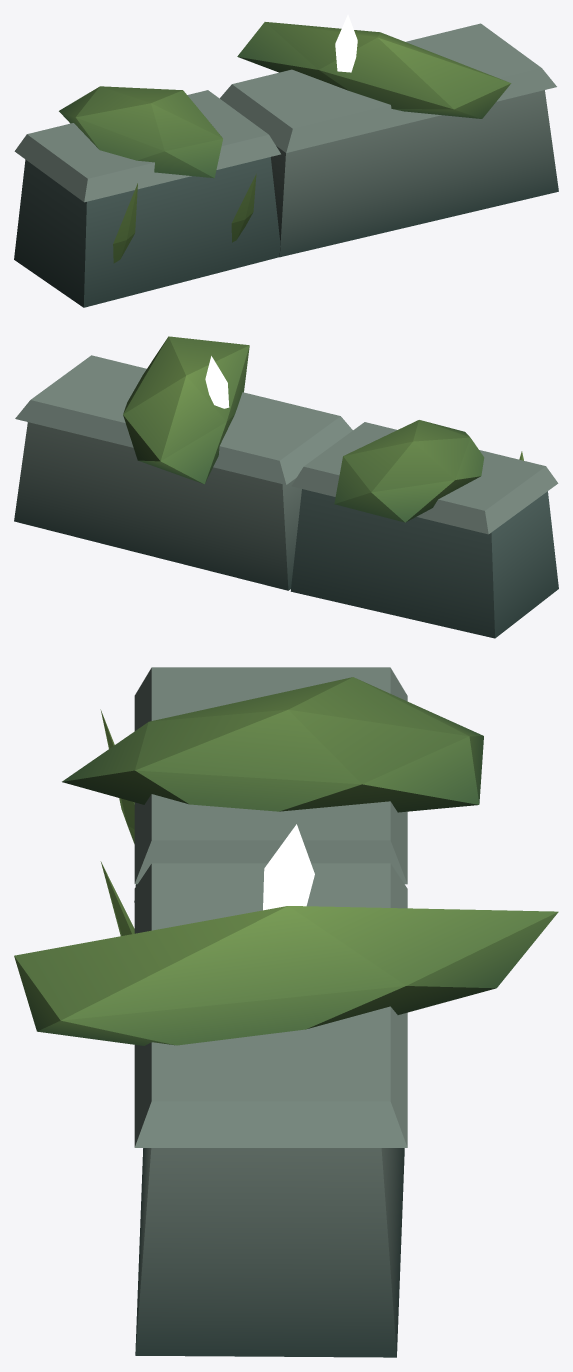
File: moss-edging-lod1.glb
3 views of the same model, one above another, from view 1: azimuth 30°, elevation 25°; view 2: azimuth 150°, elevation 25°; view 3: azimuth 270°, elevation 25° (orthographic). The views are drawn at different scales.
Parts seen in each view (by area): view 1: gg_moss_edging_lod1; view 2: gg_moss_edging_lod1; view 3: gg_moss_edging_lod1.
Boxes of the visible parts, x1,y1,x2,y2 form: gg_moss_edging_lod1: [14, 14, 558, 307]; gg_moss_edging_lod1: [14, 336, 558, 638]; gg_moss_edging_lod1: [14, 667, 558, 1357].
Bounding box in the file's own units: 1.91 × 0.7173 × 0.9583.
